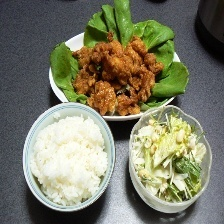sabzi: (123, 110, 211, 205)
